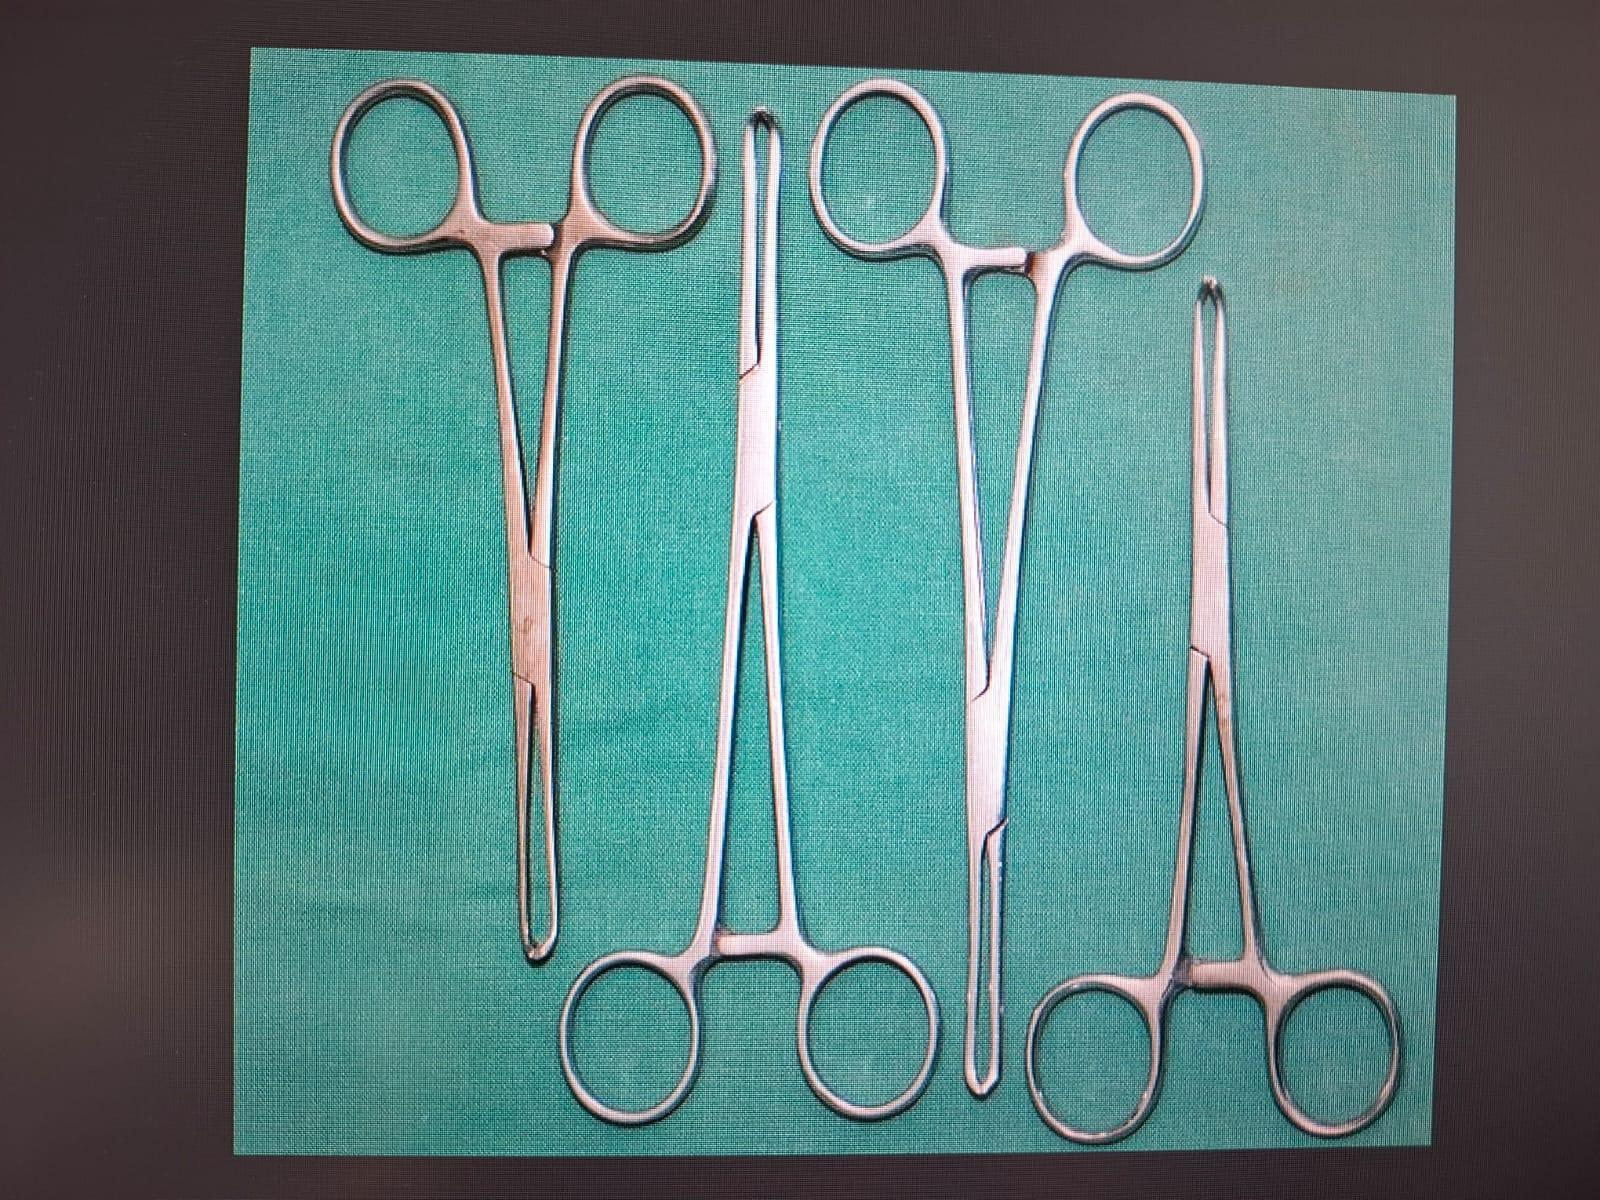Allis Forceps: (544, 98, 960, 1142), (810, 68, 1209, 1105), (1015, 266, 1436, 1156), (326, 64, 722, 979)
